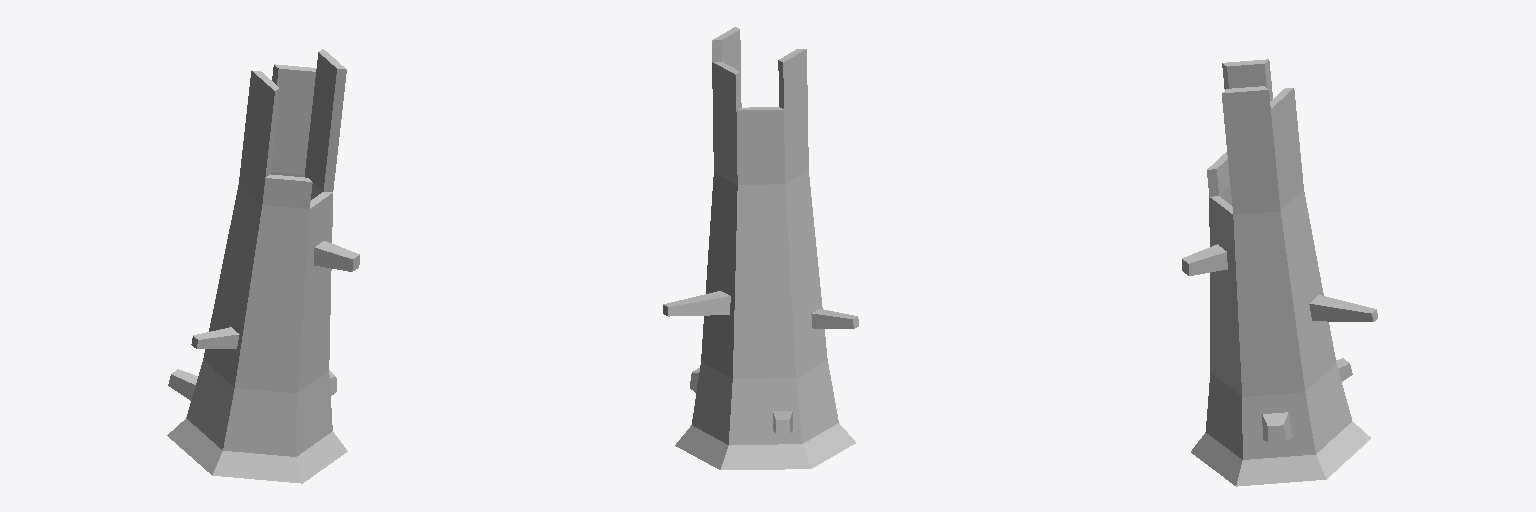
Rendered from Trunk_2.obj.
3 renders of one model, left to right at view 1: azimuth 30°, elevation 25°; view 2: azimuth 150°, elevation 25°; view 3: azimuth 270°, elevation 25°, orthographic.
Parts seen in each view (by area): view 1: Trunk_2; view 2: Trunk_2; view 3: Trunk_2.
Boxes of the visible parts, <box> form: Trunk_2: <box>167,49,359,483</box>; Trunk_2: <box>663,27,858,469</box>; Trunk_2: <box>1182,59,1377,486</box>.
Size of the model in its own units: 0.5263 by 1.31 by 0.5953.